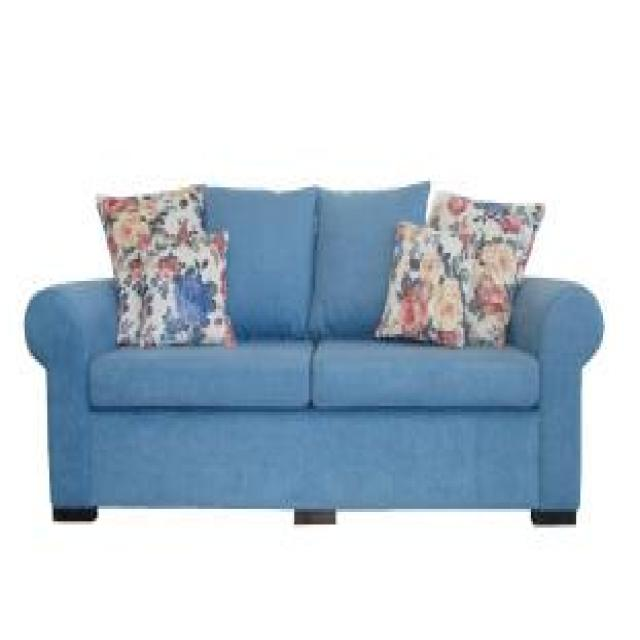sofa: (21, 174, 604, 526)
